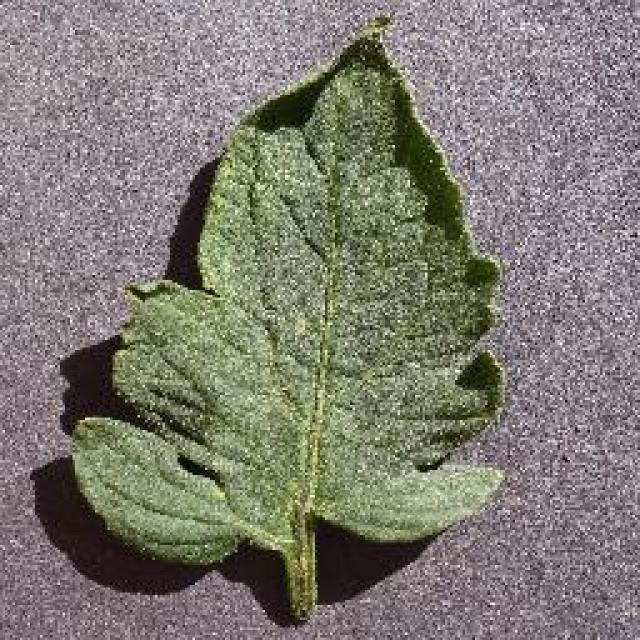Tomato healthy leaf: (64, 21, 501, 616)
